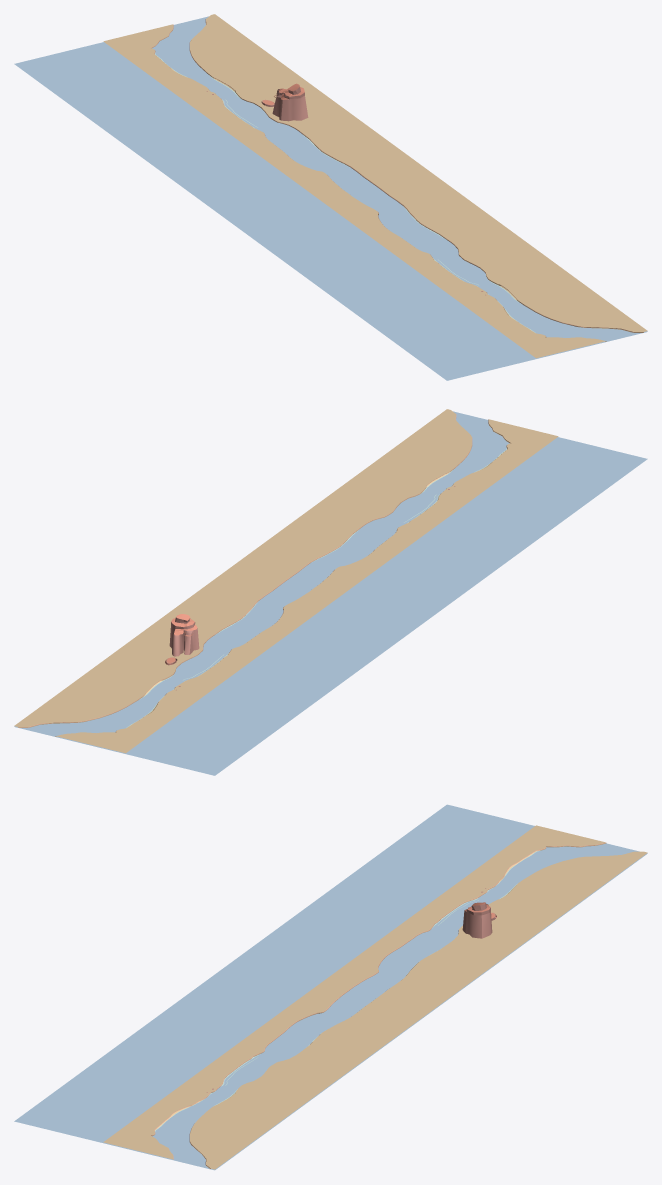
The model's file is Mesh_Adventure_Canyon_Variant_Terrain_02.fbx.
3 views of the same model, one above another, from view 1: azimuth 30°, elevation 25°; view 2: azimuth 150°, elevation 25°; view 3: azimuth 330°, elevation 25° (orthographic).
Visible parts, largest first — view 1: Mesh_Adventure_Canyon_Variant_Terrain_02; view 2: Mesh_Adventure_Canyon_Variant_Terrain_02; view 3: Mesh_Adventure_Canyon_Variant_Terrain_02.
Boxes of the visible parts, x1,y1,x2,y2 form: Mesh_Adventure_Canyon_Variant_Terrain_02: [14, 14, 647, 380]; Mesh_Adventure_Canyon_Variant_Terrain_02: [14, 409, 647, 775]; Mesh_Adventure_Canyon_Variant_Terrain_02: [14, 804, 647, 1170].
Bounding box in the file's own units: 1875 × 274 × 7000.
